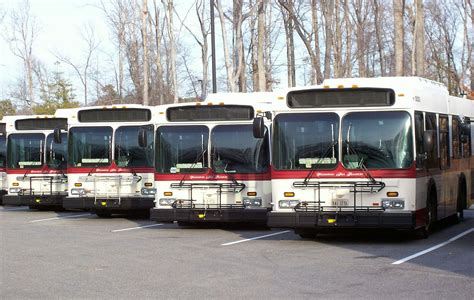bus: (275, 78, 474, 237), (151, 94, 271, 226), (65, 106, 152, 212), (5, 117, 66, 208)
